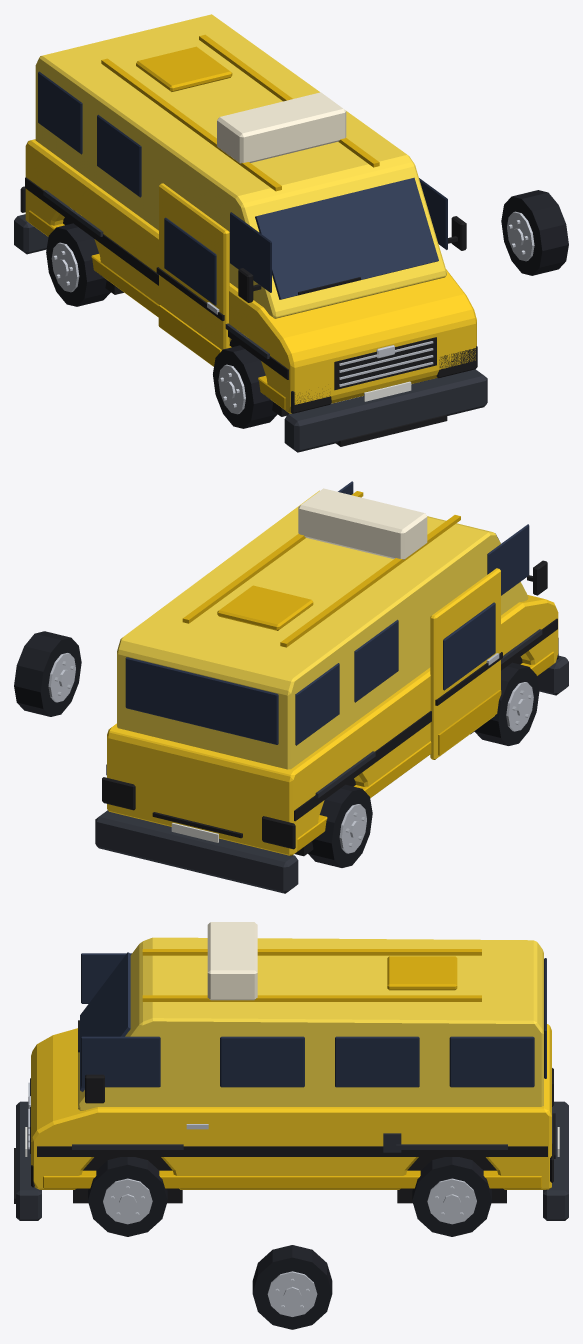
Rendered from dolmus.glb.
The picture shows the model from 3 angles, top to bottom: view 1: azimuth 30°, elevation 25°; view 2: azimuth 150°, elevation 25°; view 3: azimuth 270°, elevation 25°; orthographic projection. The views are drawn at different scales.
Visible parts, largest first — view 1: body, detail, door, wheel, wheel_preview.003, wheel_preview.001; view 2: body, detail, door, wheel, wheel_preview.003, wheel_preview.001; view 3: body, detail, wheel, wheel_preview, wheel_preview.002.
Part boxes in pixels (x1,y1,x2,y2): body: (25, 14, 476, 413); detail: (14, 71, 487, 452); door: (156, 183, 229, 366); wheel: (501, 190, 568, 275); wheel_preview.003: (46, 223, 110, 306); wheel_preview.001: (213, 345, 277, 428); body: (107, 488, 558, 855); detail: (95, 481, 568, 893); door: (430, 568, 502, 759); wheel: (14, 631, 81, 716); wheel_preview.003: (308, 784, 372, 867); wheel_preview.001: (474, 662, 539, 745); body: (31, 922, 551, 1189); detail: (14, 952, 568, 1220); wheel: (252, 1245, 332, 1329); wheel_preview: (88, 1157, 167, 1236); wheel_preview.002: (412, 1157, 491, 1236).
Bounding box in the file's own units: 4.64 × 2.68 × 5.56.
